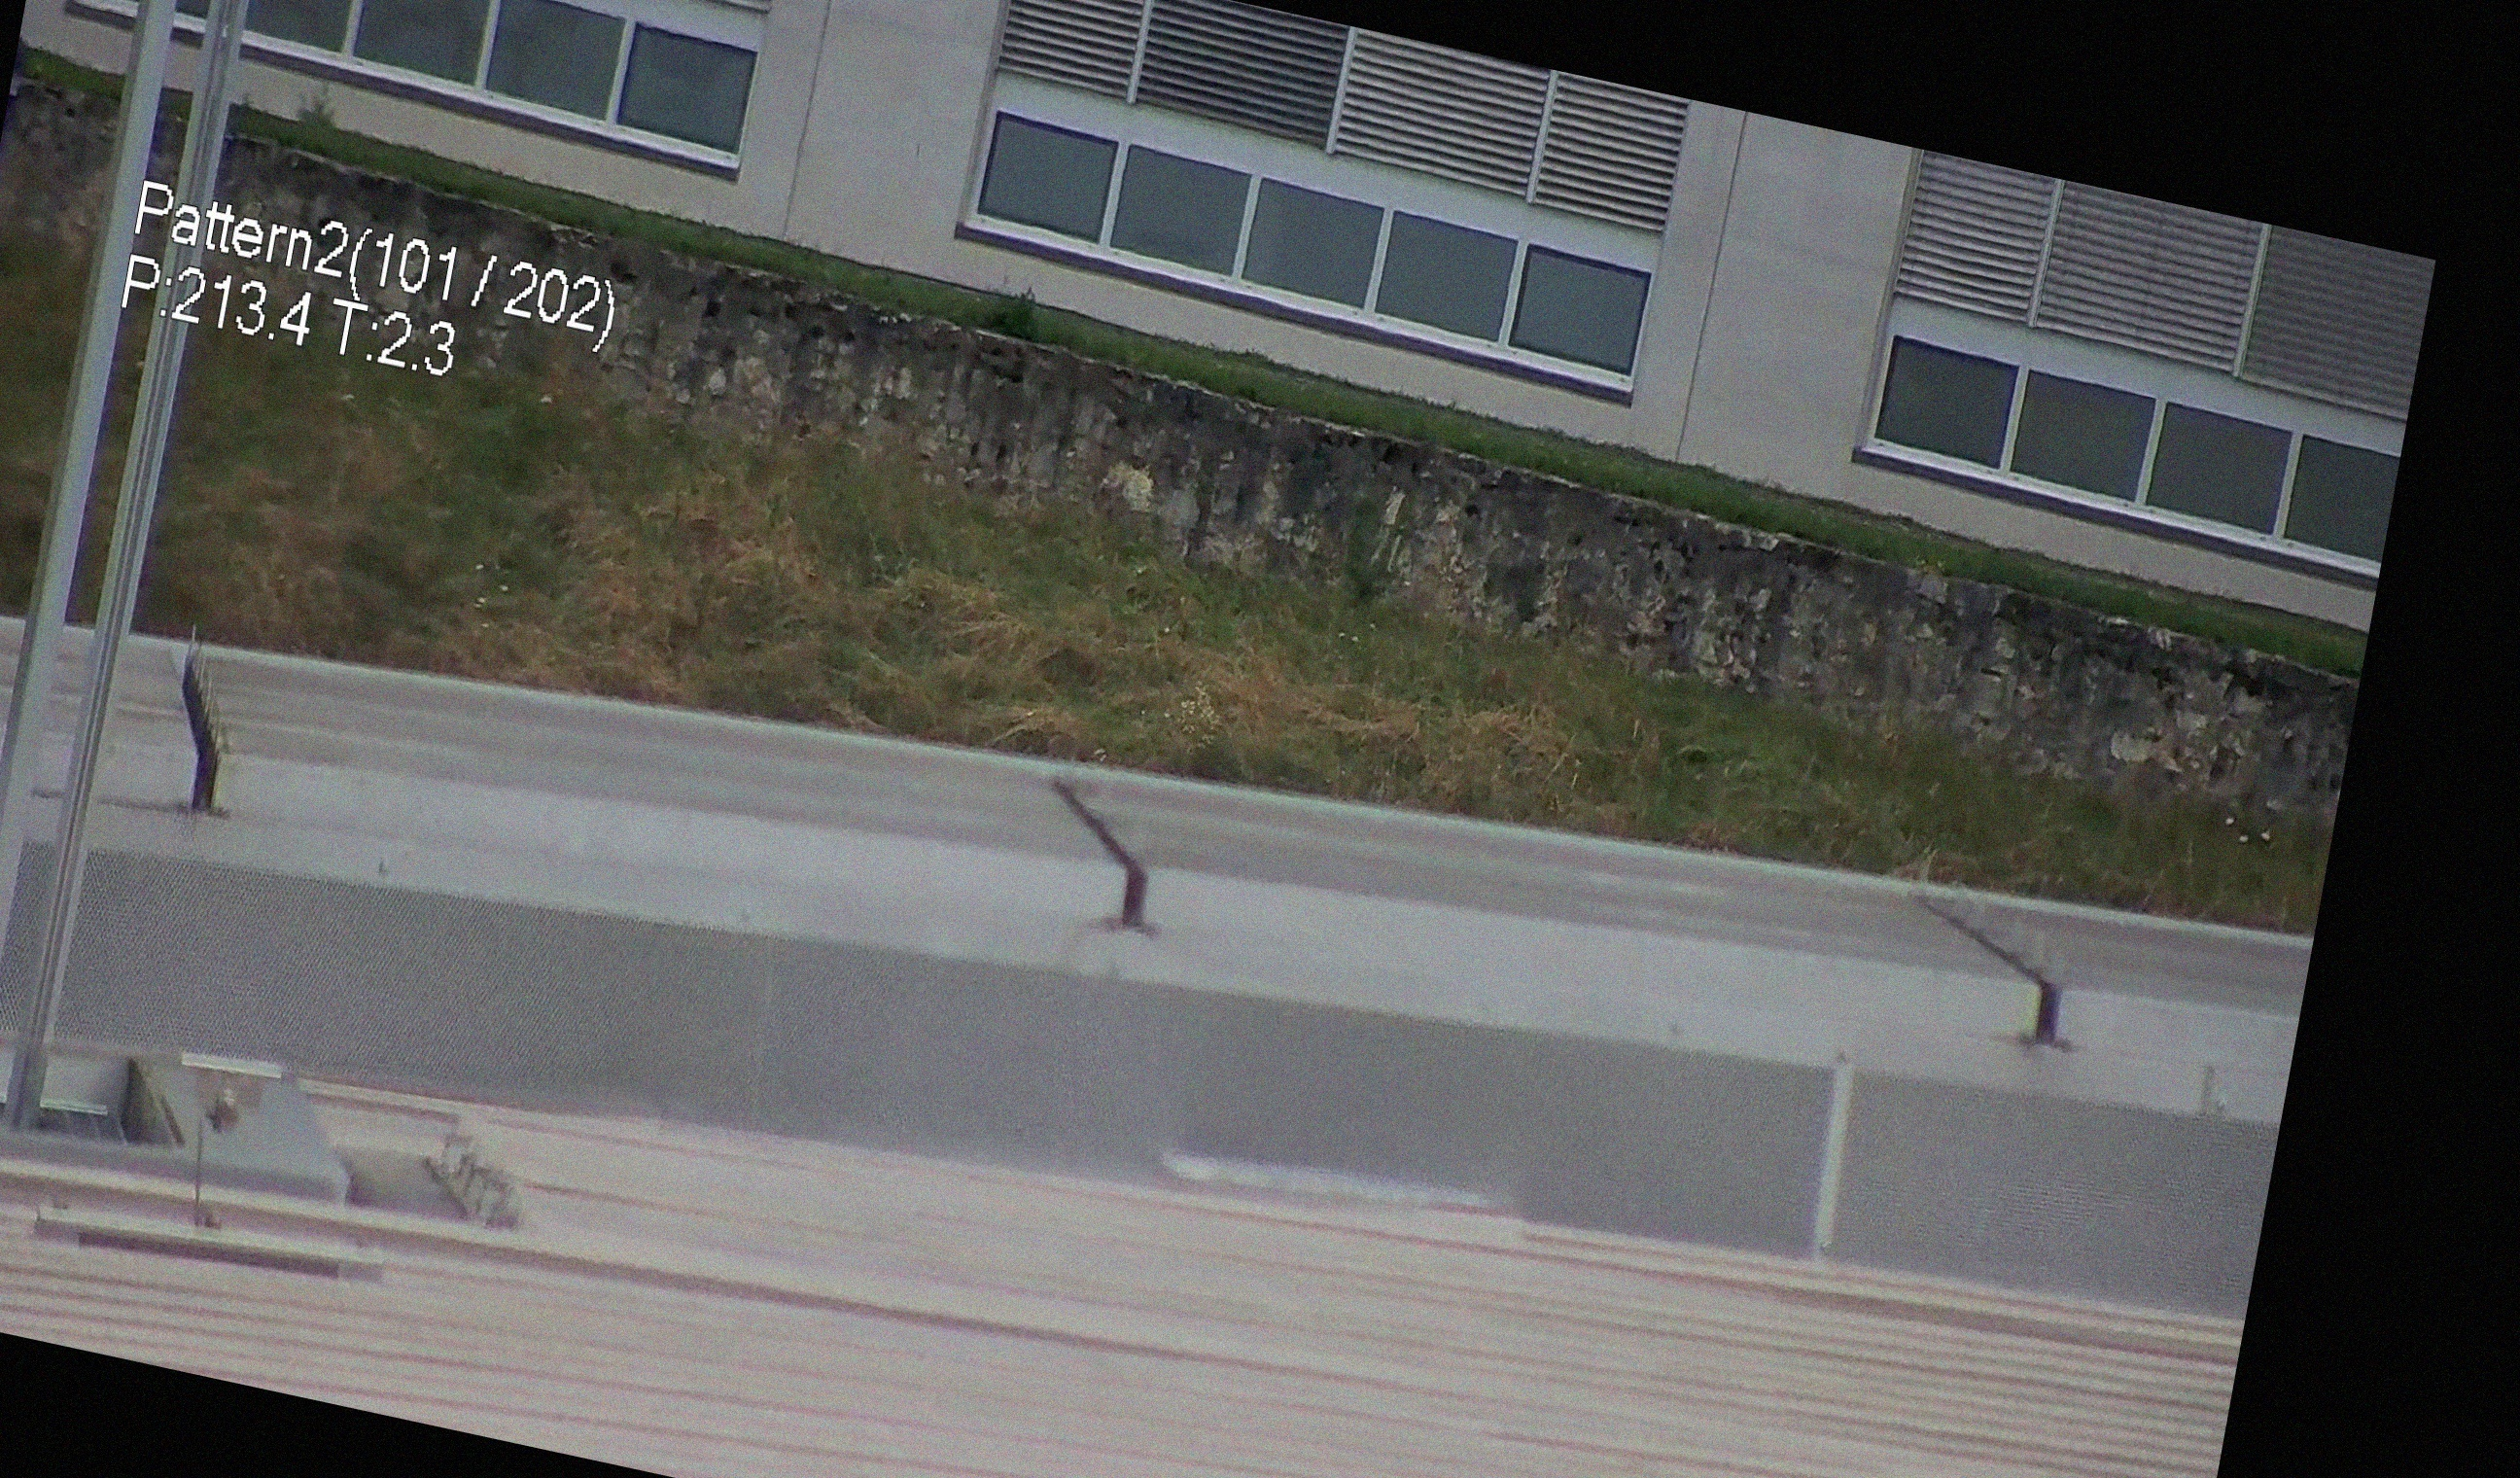Other: (144, 621, 262, 830)
